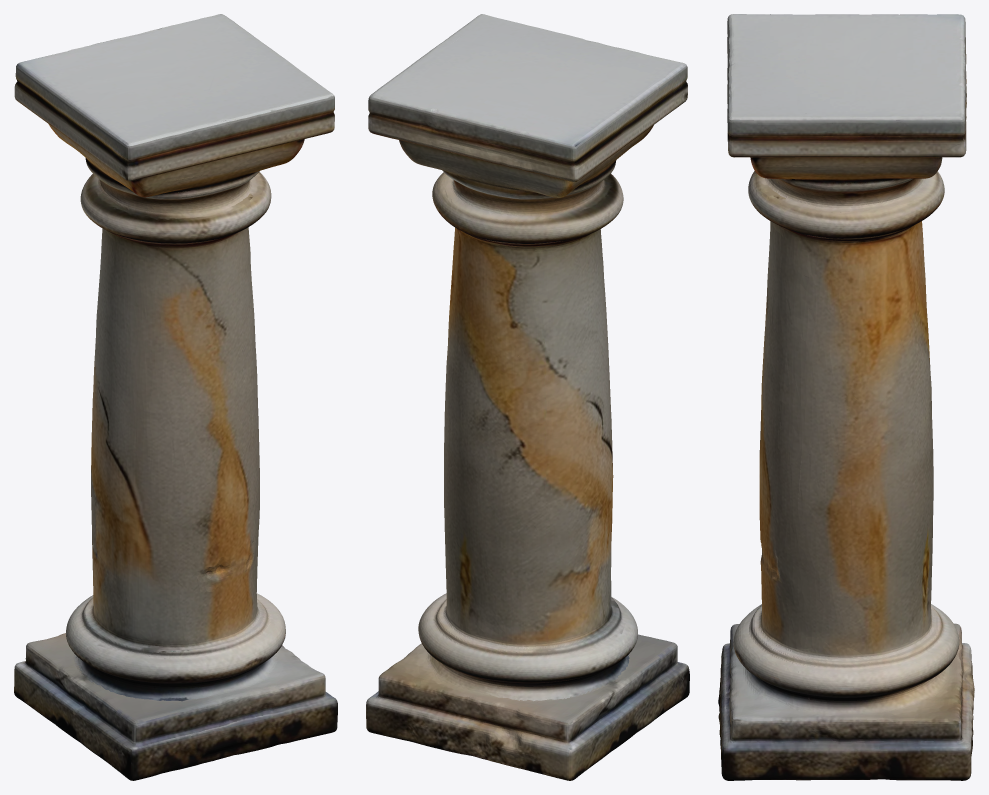
The model's file is weathered-monolith-pillar-generated-2026-04-18T22-01-36-007Z.high.glb.
The picture shows the model from 3 angles, left to right: view 1: azimuth 30°, elevation 25°; view 2: azimuth 150°, elevation 25°; view 3: azimuth 270°, elevation 25°; orthographic projection. The views are drawn at different scales.
Parts seen in each view (by area): view 1: temp_mesh.ply; view 2: temp_mesh.ply; view 3: temp_mesh.ply.
Part boxes in pixels (bbox=[...]): temp_mesh.ply: bbox=[14, 14, 337, 780]; temp_mesh.ply: bbox=[366, 14, 689, 780]; temp_mesh.ply: bbox=[718, 14, 974, 780].
Size of the model in its own units: 0.6844 by 1.97 by 0.6911.
Materials: 1 (1 with a texture image).
